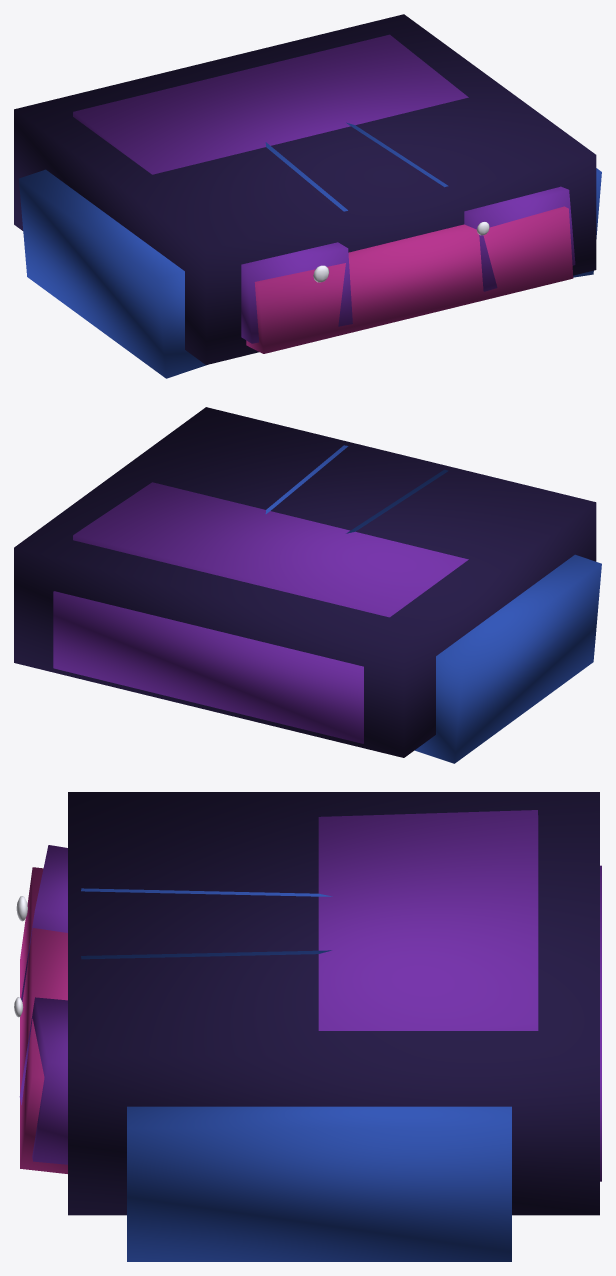
Rendered from skomma__male_hair_styled_01.glb.
3 views of the same model, one above another, from view 1: azimuth 30°, elevation 25°; view 2: azimuth 150°, elevation 25°; view 3: azimuth 270°, elevation 25° (orthographic). The views are drawn at different scales.
Visible parts, largest first — view 1: Galaxy_Hair_Main, Galaxy_Purple_Top, Galaxy_Pink_Front, Galaxy_Left_Side, Galaxy_Purple_Front_Left, Galaxy_Purple_Front_Right; view 2: Galaxy_Hair_Main, Galaxy_Purple_Top, Galaxy_Back_Purple, Galaxy_Left_Side, Galaxy_Blue_Left; view 3: Galaxy_Hair_Main, Galaxy_Right_Side, Galaxy_Purple_Top, Galaxy_Pink_Front, Galaxy_Purple_Front_Right, Galaxy_Purple_Front_Left, Galaxy_Blue_Right, Galaxy_Blue_Left, Galaxy_Back_Purple.
Boxes of the visible parts, box(x1,y1,x2,y2) form: Galaxy_Hair_Main: box(14, 14, 596, 364); Galaxy_Purple_Top: box(73, 34, 468, 174); Galaxy_Pink_Front: box(246, 206, 573, 353); Galaxy_Left_Side: box(19, 169, 206, 378); Galaxy_Purple_Front_Left: box(241, 242, 352, 343); Galaxy_Purple_Front_Right: box(464, 186, 575, 291); Galaxy_Hair_Main: box(14, 407, 596, 757); Galaxy_Purple_Top: box(73, 482, 468, 617); Galaxy_Back_Purple: box(53, 591, 363, 743); Galaxy_Left_Side: box(414, 554, 601, 763); Galaxy_Blue_Left: box(346, 469, 448, 533); Galaxy_Hair_Main: box(68, 792, 599, 1215); Galaxy_Right_Side: box(127, 1106, 511, 1261); Galaxy_Purple_Top: box(318, 810, 538, 1030); Galaxy_Pink_Front: box(20, 867, 67, 1173); Galaxy_Purple_Front_Right: box(19, 997, 67, 1164); Galaxy_Purple_Front_Left: box(21, 845, 67, 1001); Galaxy_Blue_Right: box(81, 950, 331, 959); Galaxy_Blue_Left: box(81, 888, 332, 896); Galaxy_Back_Purple: box(600, 865, 601, 1181).
Size of the model in its own units: 1.94 by 0.6031 by 1.6.
